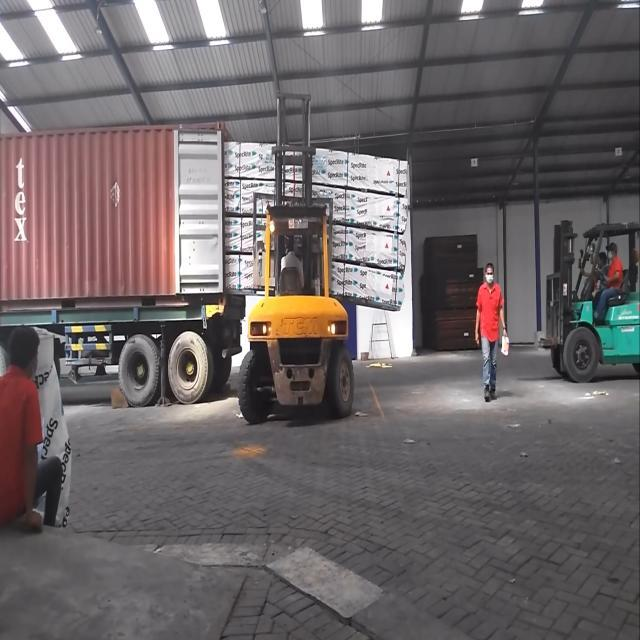driver: (596, 244, 626, 314), (280, 238, 305, 290)
forklift: (238, 193, 356, 426), (539, 218, 640, 382)
person: (0, 323, 63, 529), (474, 259, 510, 406)
